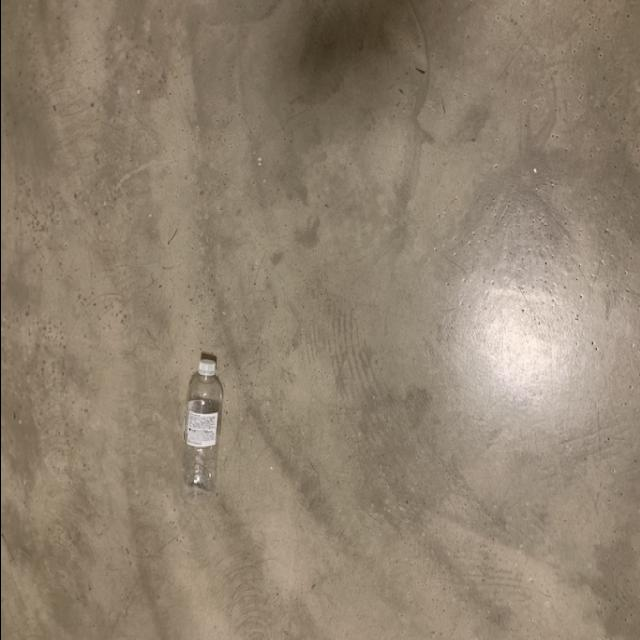litter: (179, 352, 223, 506)
